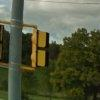Traffic light: (27, 20, 63, 76)
